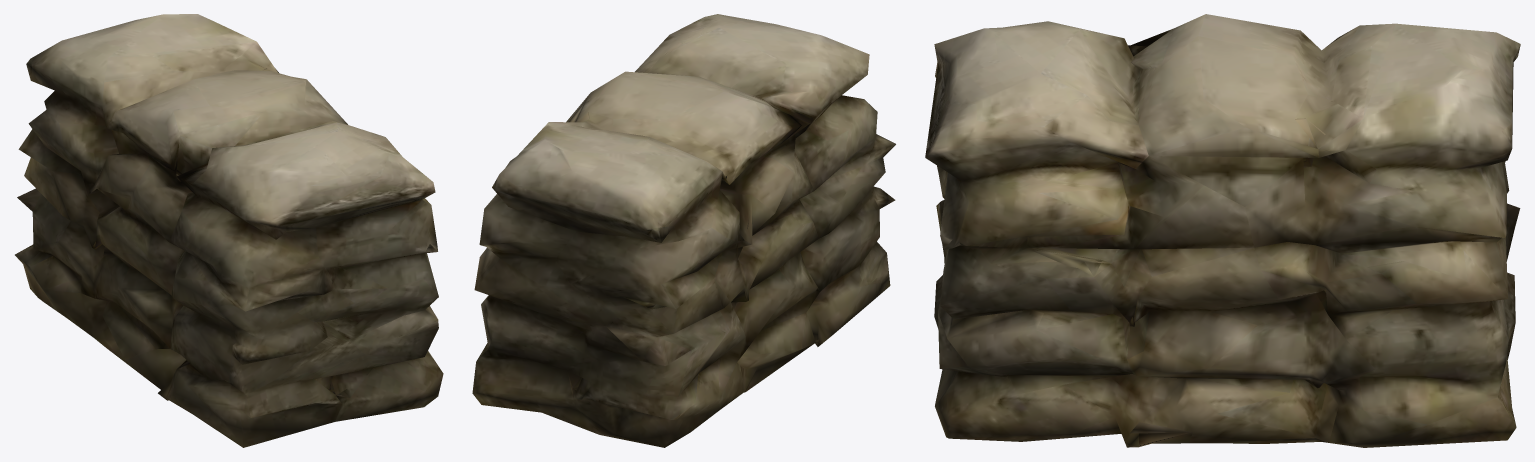
File: e_sandbags.glb
The picture shows the model from 3 angles, left to right: view 1: azimuth 30°, elevation 25°; view 2: azimuth 150°, elevation 25°; view 3: azimuth 270°, elevation 25°; orthographic projection. The views are drawn at different scales.
Parts seen in each view (by area): view 1: tripo_node_f388a4c2-1231-4b7d-a6de-ed4fc382b63f; view 2: tripo_node_f388a4c2-1231-4b7d-a6de-ed4fc382b63f; view 3: tripo_node_f388a4c2-1231-4b7d-a6de-ed4fc382b63f.
Boxes of the visible parts, x1,y1,x2,y2 form: tripo_node_f388a4c2-1231-4b7d-a6de-ed4fc382b63f: (15, 14, 443, 447); tripo_node_f388a4c2-1231-4b7d-a6de-ed4fc382b63f: (472, 14, 895, 447); tripo_node_f388a4c2-1231-4b7d-a6de-ed4fc382b63f: (925, 14, 1520, 447).
Size of the model in its own units: 0.5656 by 0.6209 by 1.
1 material, 1 textured.
